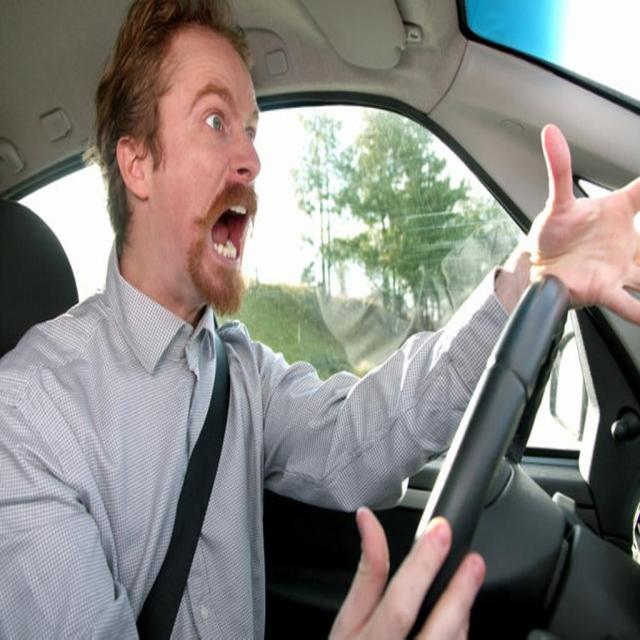Face: (143, 4, 270, 338)
